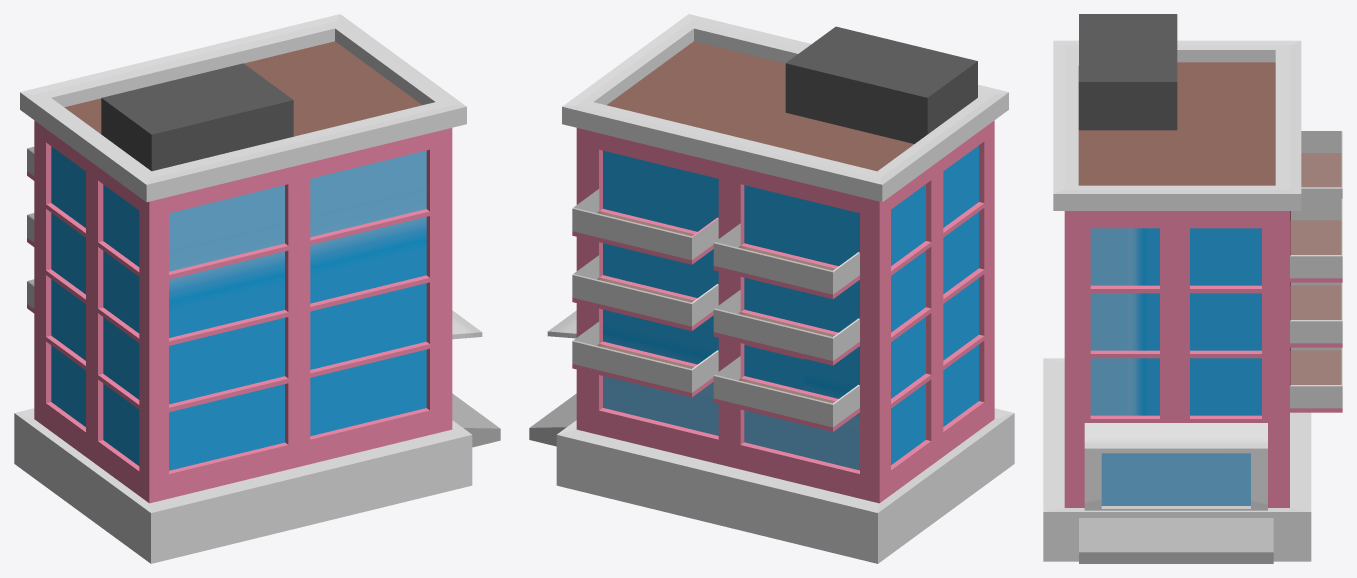
The model's file is house_world_ap_0_lev1.glb.
The picture shows the model from 3 angles, left to right: view 1: azimuth 30°, elevation 25°; view 2: azimuth 150°, elevation 25°; view 3: azimuth 270°, elevation 25°; orthographic projection. The views are drawn at different scales.
Visible parts, largest first — view 1: house_world_ap_0_lev1; view 2: house_world_ap_0_lev1; view 3: house_world_ap_0_lev1.
Boxes of the visible parts, box(x1,y1,x2,y2) form: house_world_ap_0_lev1: box(14, 14, 500, 563); house_world_ap_0_lev1: box(529, 14, 1014, 563); house_world_ap_0_lev1: box(1043, 14, 1342, 563).
Size of the model in its own units: 5.13 by 5.49 by 3.69.
Materials: 1 (1 with a texture image).
